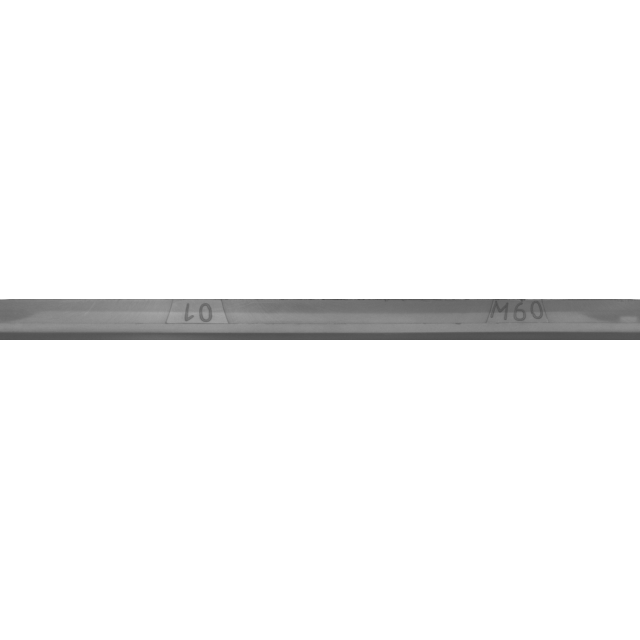mohao: (425, 270, 625, 370)
xuehao: (94, 270, 294, 370)
